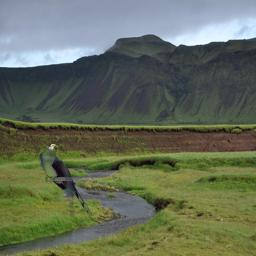Cuckoo: (39, 143, 96, 217)
